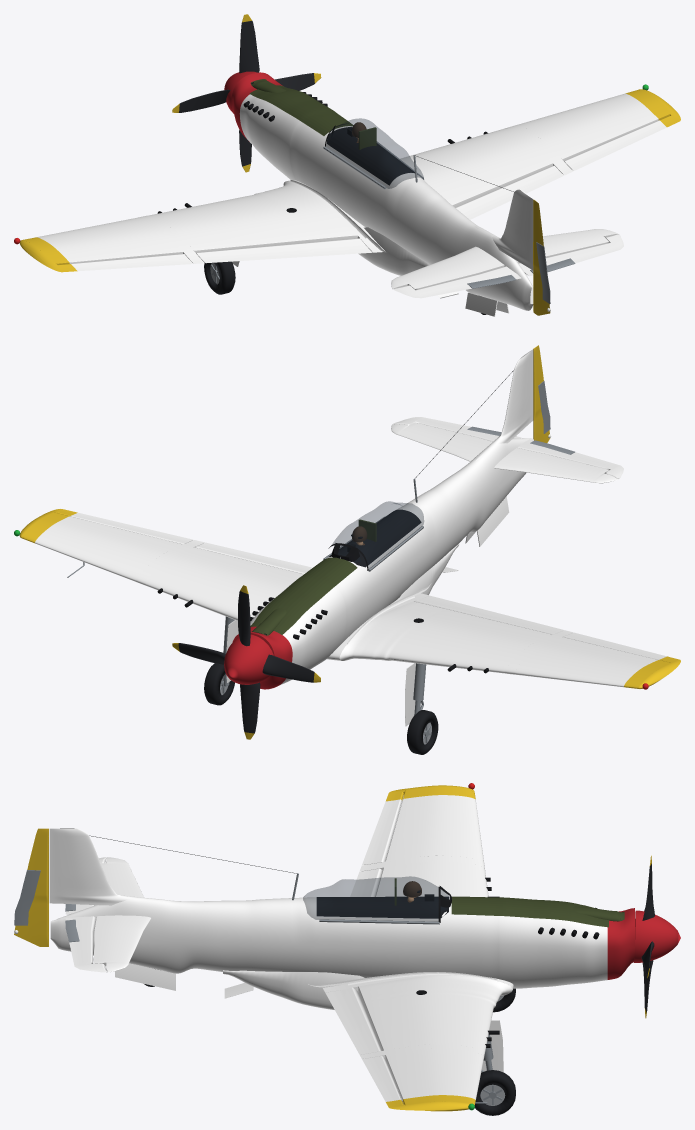
Rendered from mustang.glb.
3 renders of one model, top to bottom at view 1: azimuth 30°, elevation 25°; view 2: azimuth 150°, elevation 25°; view 3: azimuth 270°, elevation 25°, orthographic. The views are drawn at different scales.
Parts seen in each view (by area): view 1: fuselage, wing_left_ahead_of_flap, wing_right_ahead_of_flap, wing_right_ahead_of_aileron, wing_left_ahead_of_aileron, canopy, stab, flap_left, fin, anti_glare, cockpit_tub, flap_right (+17 smaller); view 2: fuselage, wing_left_ahead_of_flap, wing_right_ahead_of_flap, wing_right_ahead_of_aileron, wing_left_ahead_of_aileron, stab, canopy, anti_glare, fin, cockpit_tub, spinner, flap_left (+16 smaller); view 3: fuselage, wing_right_ahead_of_flap, wing_left_ahead_of_aileron, canopy, wing_right_ahead_of_aileron, fin, stab, wing_left_ahead_of_flap, anti_glare, scoop, cockpit_tub, rudder (+15 smaller).
Part boxes in pixels (x1,y1,x2,y2): fuselage: (239, 94, 533, 310); wing_left_ahead_of_flap: (149, 181, 357, 252); wing_right_ahead_of_flap: (400, 128, 552, 207); wing_right_ahead_of_aileron: (517, 90, 671, 160); wing_left_ahead_of_aileron: (25, 217, 182, 264); canopy: (326, 118, 423, 188); stab: (391, 229, 618, 290); flap_left: (196, 238, 372, 263); fin: (475, 189, 533, 270); anti_glare: (249, 85, 353, 135); cockpit_tub: (327, 127, 417, 185); flap_right: (455, 165, 563, 219); fuselage: (250, 438, 533, 684); wing_left_ahead_of_flap: (339, 601, 552, 673); wing_right_ahead_of_flap: (145, 547, 303, 620); wing_right_ahead_of_aileron: (23, 512, 182, 581); wing_left_ahead_of_aileron: (515, 637, 671, 688); stab: (391, 422, 618, 483); canopy: (332, 501, 423, 568); anti_glare: (250, 557, 357, 634); fin: (475, 349, 533, 460); cockpit_tub: (328, 509, 421, 567); spinner: (224, 634, 273, 684); flap_left: (416, 595, 563, 634); fuselage: (50, 896, 607, 988); wing_right_ahead_of_flap: (358, 975, 512, 1051); wing_left_ahead_of_aileron: (385, 786, 483, 862); canopy: (303, 876, 438, 921); wing_right_ahead_of_aileron: (385, 1048, 484, 1105); fin: (49, 828, 170, 905); stab: (93, 857, 151, 972); wing_left_ahead_of_flap: (375, 861, 488, 897); anti_glare: (451, 896, 608, 927); scoop: (223, 970, 364, 1009); cockpit_tub: (316, 896, 448, 918); rudder: (14, 828, 48, 946).
Bounding box in the file's own units: 2.82 × 0.95 × 2.46.
